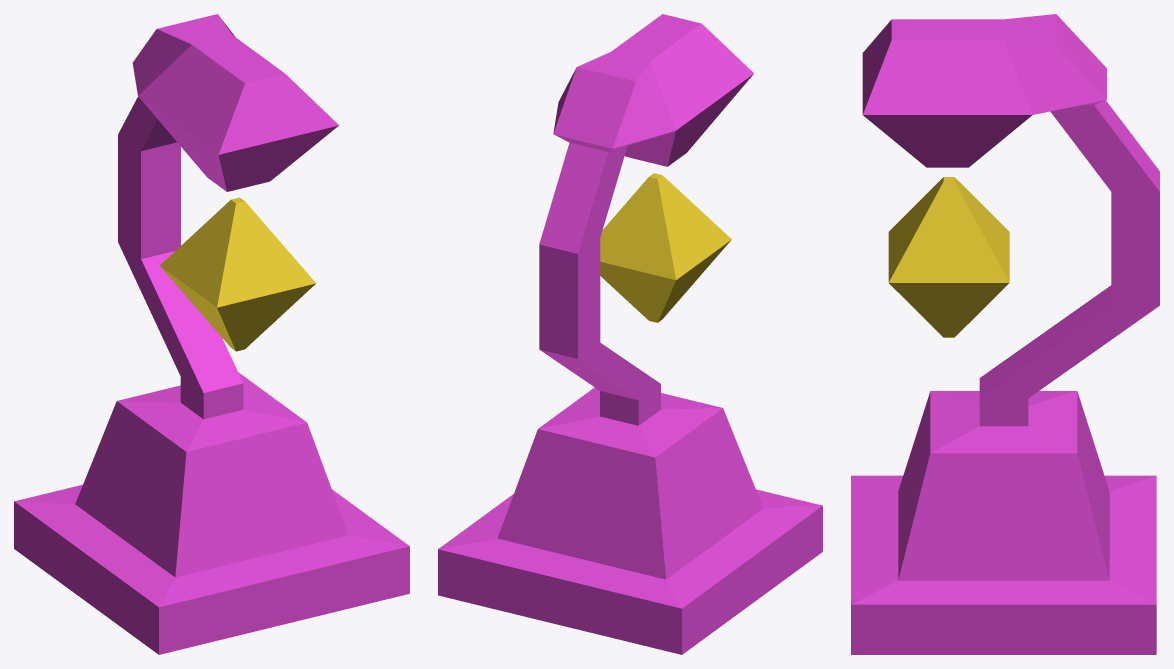
File: lvl_3.fbx
The picture shows the model from 3 angles, left to right: view 1: azimuth 30°, elevation 25°; view 2: azimuth 150°, elevation 25°; view 3: azimuth 270°, elevation 25°; orthographic projection. The views are drawn at different scales.
Parts seen in each view (by area): view 1: Cube.004, Cube.005, Cube.002; view 2: Cube.004, Cube.005, Cube.002; view 3: Cube.004, Cube.005, Cube.002.
Part boxes in pixels (box(x1,y1,x2,y2)): Cube.004: box(14, 372, 409, 654); Cube.005: box(118, 14, 338, 419); Cube.002: box(159, 197, 315, 351); Cube.004: box(438, 387, 822, 654); Cube.005: box(539, 14, 753, 425); Cube.002: box(600, 173, 731, 322); Cube.004: box(851, 391, 1156, 654); Cube.005: box(862, 14, 1159, 426); Cube.002: box(888, 177, 1009, 337).
Bounding box in the file's own units: 200 × 202 × 405.
